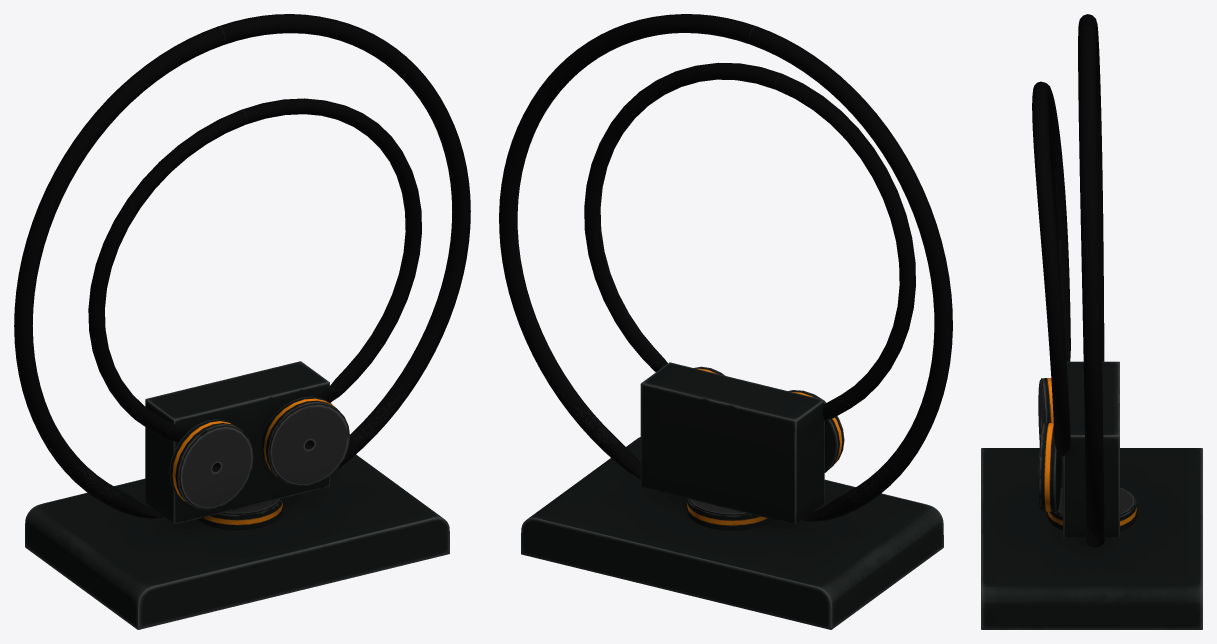
The model's file is Antena FinalUV_high.obj.
3 renders of one model, left to right at view 1: azimuth 30°, elevation 25°; view 2: azimuth 150°, elevation 25°; view 3: azimuth 270°, elevation 25°, orthographic. The views are drawn at different scales.
Visible parts, largest first — view 1: Base, Antena_big, Antena_small, Back_stand, Round_right, Round_left, Round_bottom; view 2: Base, Antena_big, Back_stand, Antena_small, Round_bottom, Round_left; view 3: Base, Antena_big, Antena_small, Back_stand, Round_right, Round_bottom, Round_left.
Part boxes in pixels (x1,y1,x2,y2): Base: (25,454,449,629); Antena_big: (14,14,470,518); Antena_small: (88,98,421,441); Back_stand: (145,361,329,524); Round_right: (261,396,349,486); Round_left: (169,419,253,509); Round_bottom: (197,498,282,529); Base: (521,437,943,629); Antena_big: (499,14,952,521); Back_stand: (640,362,824,524); Antena_small: (584,62,915,420); Round_bottom: (687,498,772,530); Round_left: (788,390,844,472); Base: (981,448,1202,629); Antena_big: (1078,14,1104,547); Antena_small: (1032,81,1070,455); Back_stand: (1063,361,1119,537); Round_right: (1038,422,1061,511); Round_bottom: (1047,487,1136,530); Round_left: (1038,378,1053,444).
Size of the model in its own units: 302 by 337 by 130.
4 materials, 4 textured.
